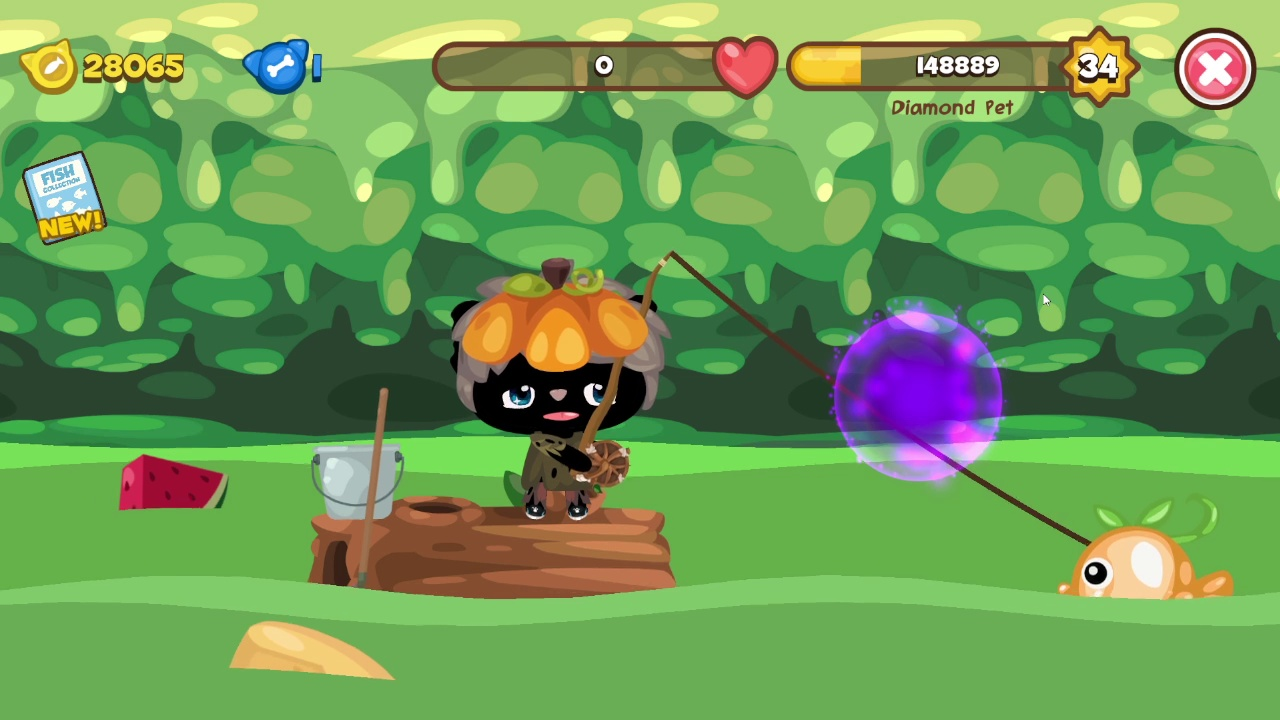point: (831, 312, 1006, 481)
